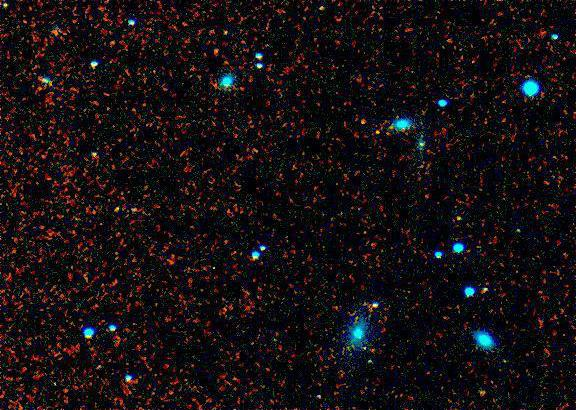star: (212, 20, 242, 50)
